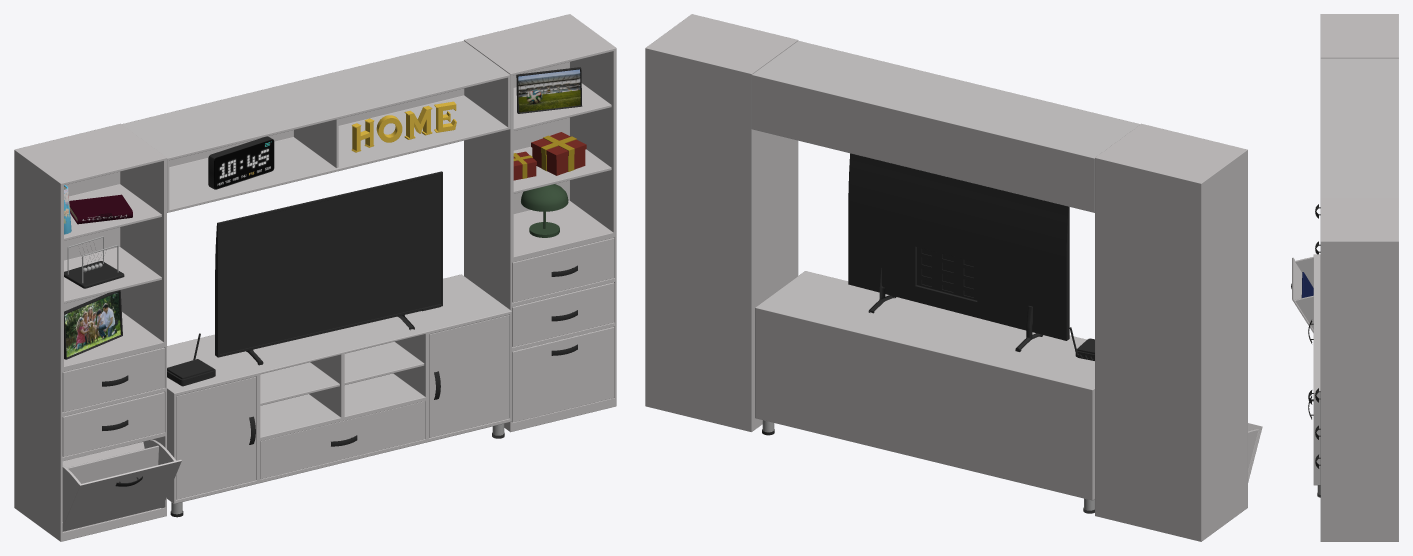
The picture shows the model from 3 angles, left to right: view 1: azimuth 30°, elevation 25°; view 2: azimuth 150°, elevation 25°; view 3: azimuth 270°, elevation 25°; orthographic projection. The views are drawn at different scales.
Parts seen in each view (by area): view 1: Material_003-material; view 2: Material_003-material; view 3: Material_003-material.
Part boxes in pixels (x1,y1,x2,y2): Material_003-material: (14, 14, 616, 541); Material_003-material: (645, 14, 1262, 541); Material_003-material: (1291, 14, 1398, 541).
Size of the model in its own units: 2.75 by 1.7 by 0.5513.
18 materials, 5 textured.
